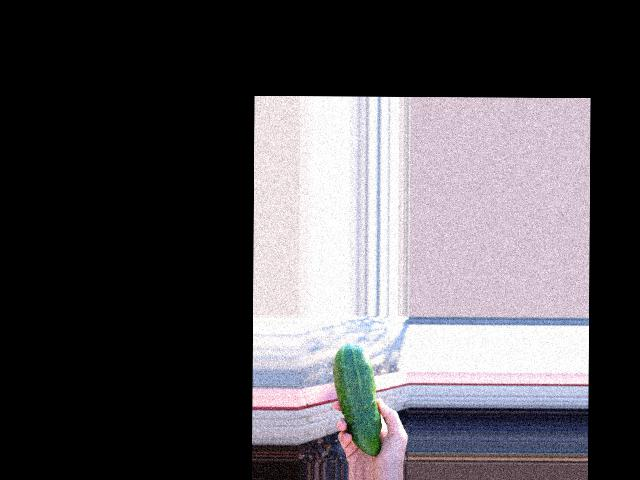cucumber: (331, 344, 381, 455)
